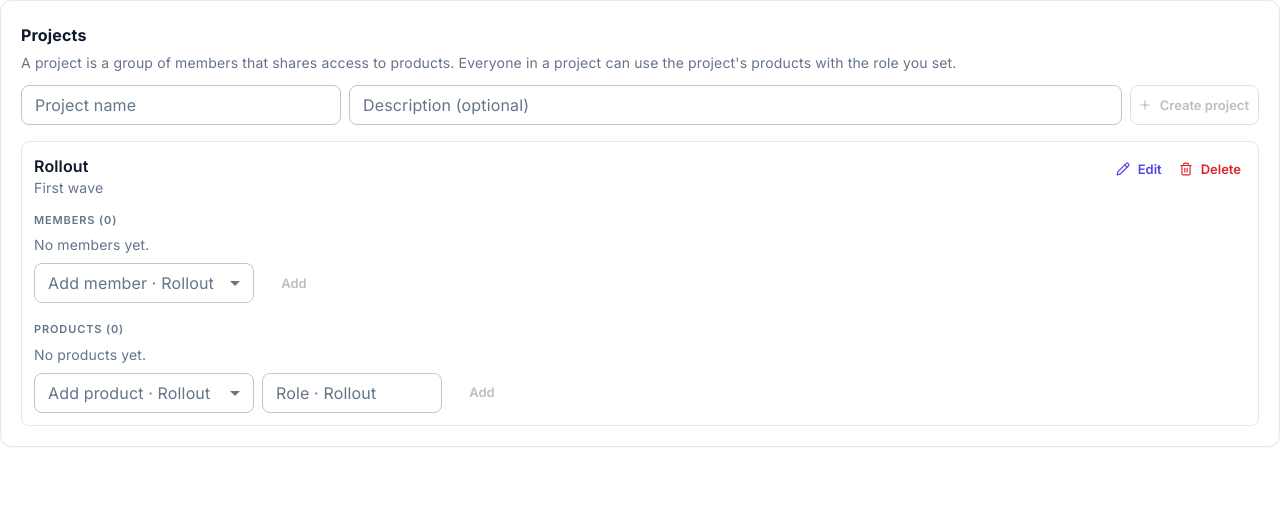
Scenario: OrganizationProjectsCard › renames a project and shows a server message
Expected: the element "Rollout" is shown, [21,141,1259,426]
Step 1. Click the button with aria-label "Edit Rollout" → (1140, 169), box [1108,154,1172,185]
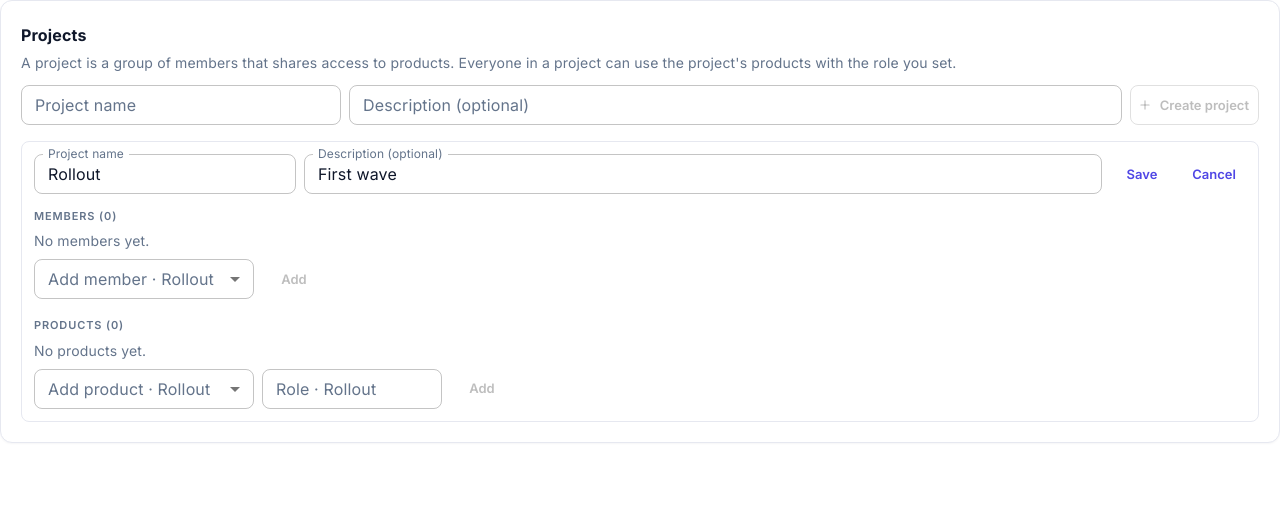
Step 2. Replace the text in the 2nd field labelled "Project name" with "Delhi" → (165, 174), box [34,154,296,194]
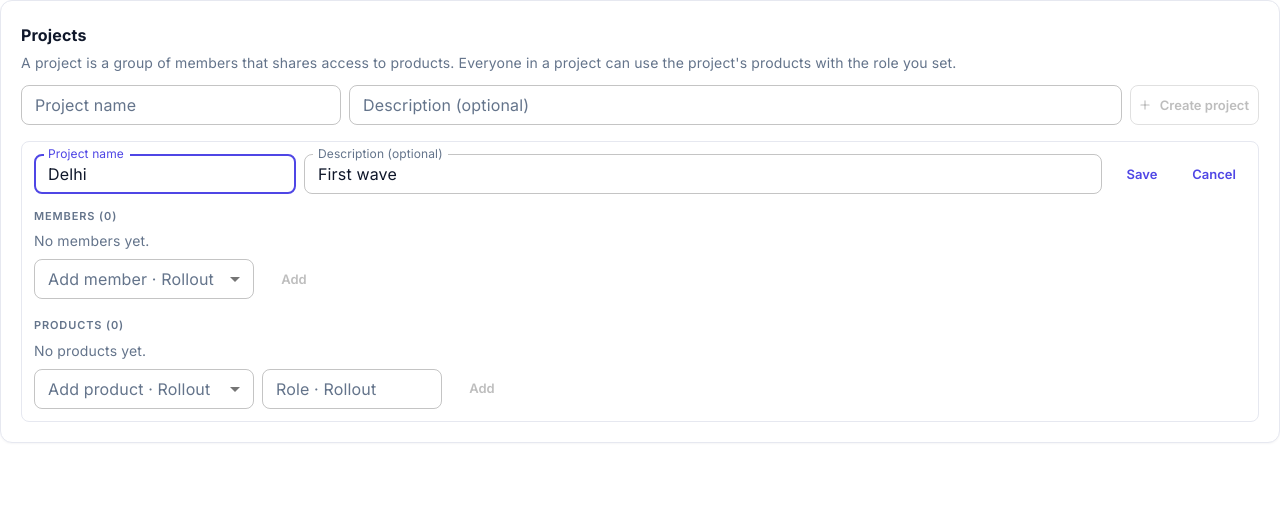
Step 3. Click the button "Save" → (1142, 174), box [1110,154,1174,194]
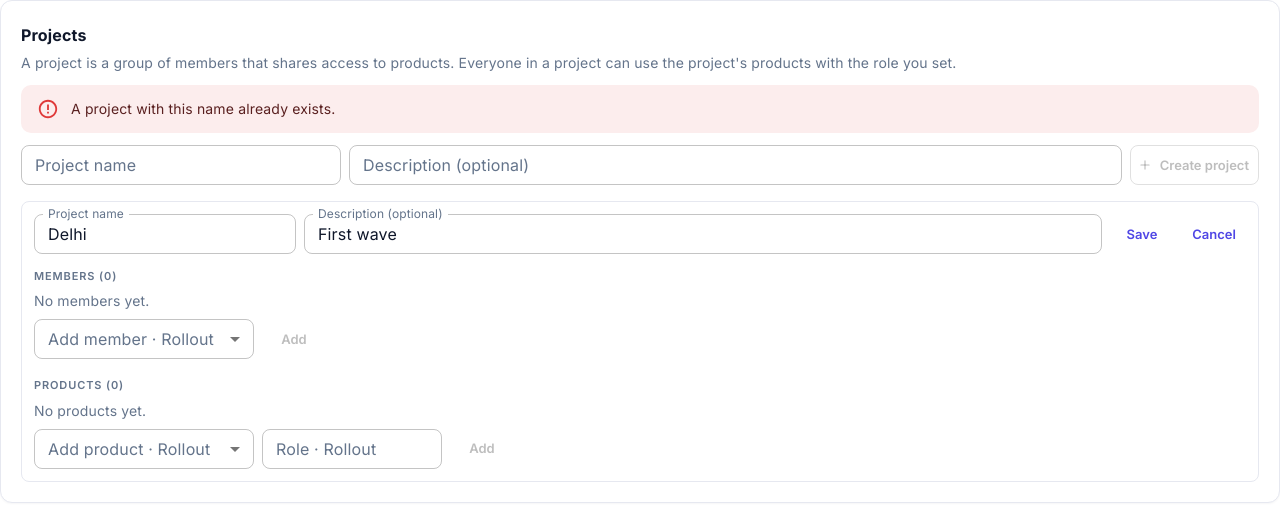
Result: the text "A project with this name already exists." is shown at [71,100,335,117]
